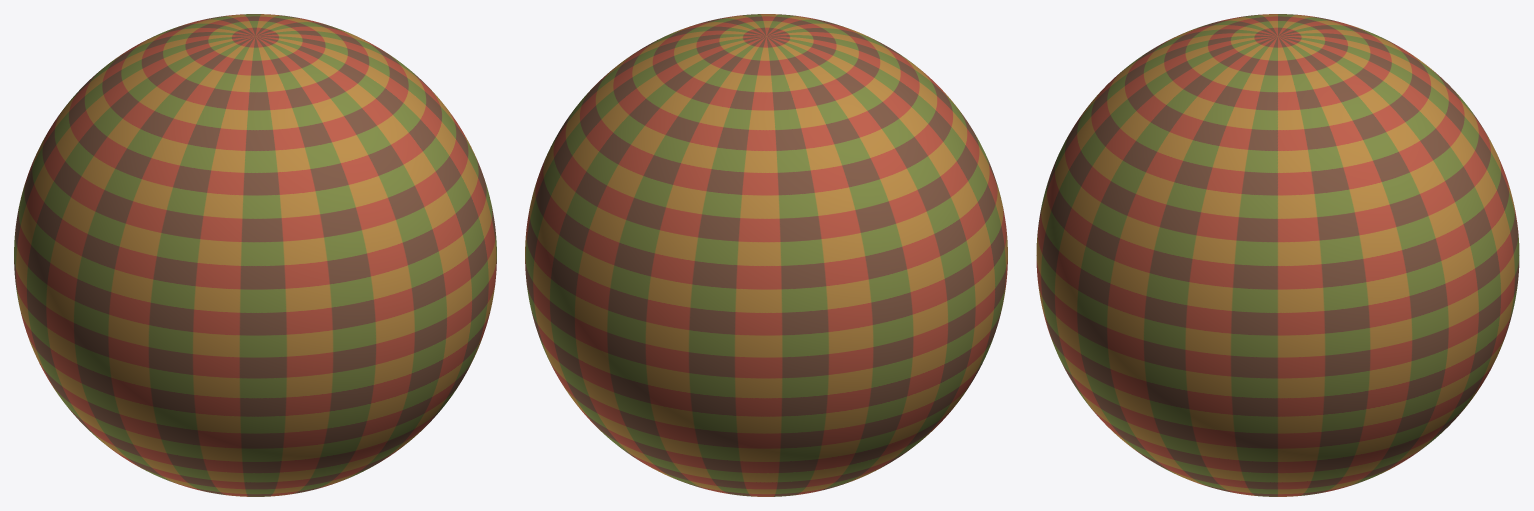
File: heavy-generated.glb
3 renders of one model, left to right at view 1: azimuth 30°, elevation 25°; view 2: azimuth 150°, elevation 25°; view 3: azimuth 270°, elevation 25°, orthographic.
Size of the model in its own units: 0.8 by 0.8 by 0.8.
1 material, 1 textured.
